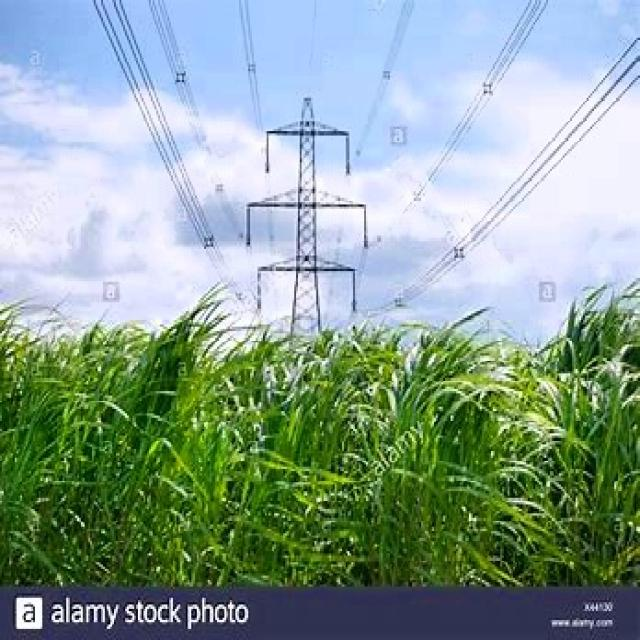utility poles: (247, 78, 365, 586)
